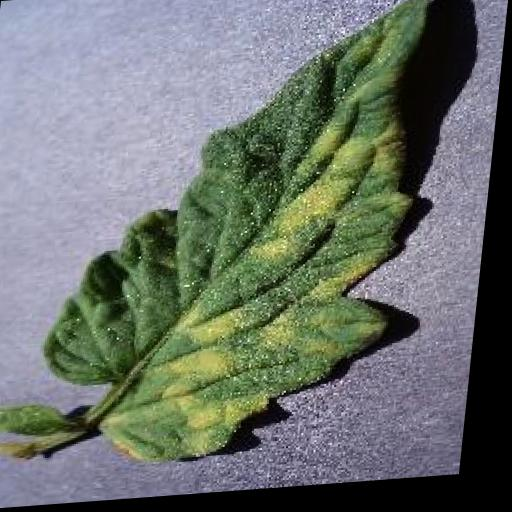Leaf Mold: (48, 0, 451, 460)
